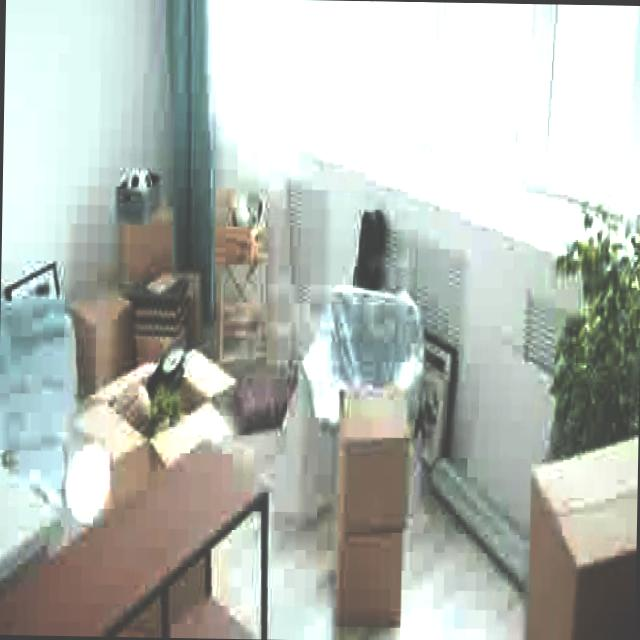Box: (329, 390, 412, 538), (330, 528, 410, 626), (72, 288, 126, 388)
